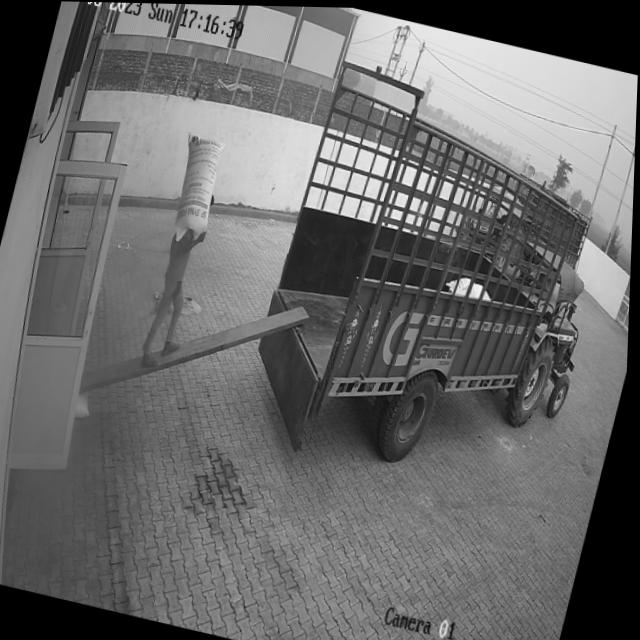sack: (164, 131, 228, 245)
